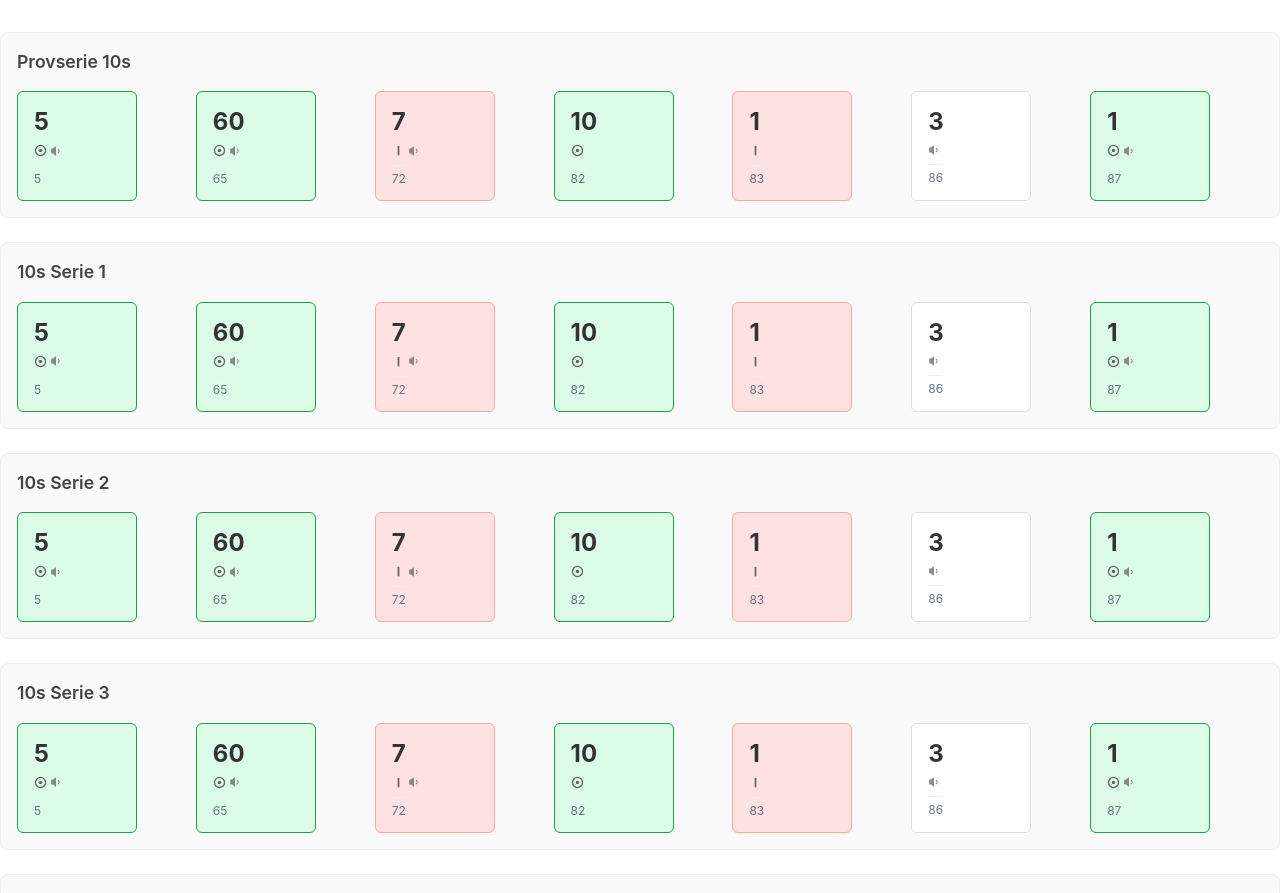
Test case: event detail (#125) › previews on hover and lets go again
Hover over the button "5 5" below "Provserie 10s" at (77, 146), box [17,91,137,201]
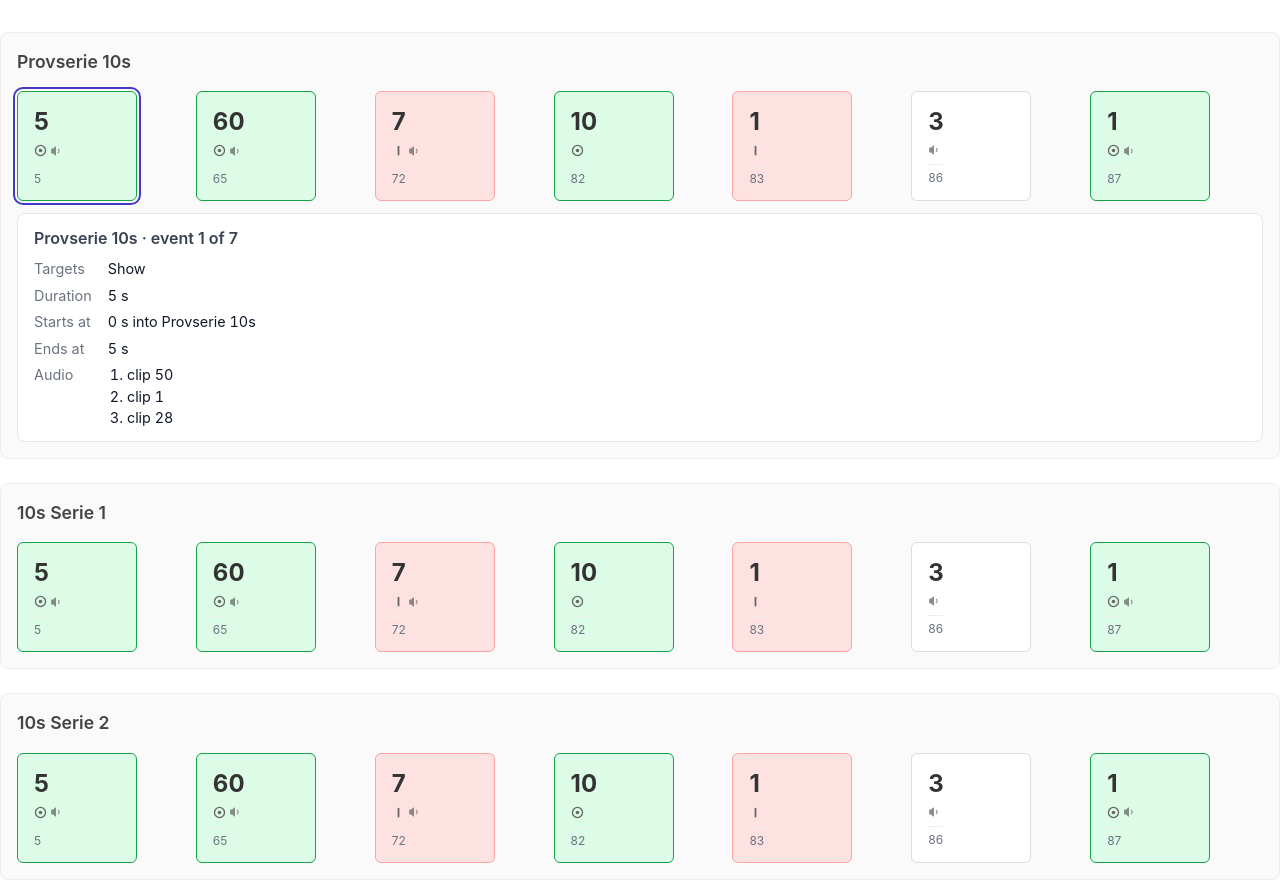
Expected: the element with test id "timeline-event-detail" is shown, [17,213,1263,442]
Move the pointer off the 1st button "5 5", box [17,91,137,201]
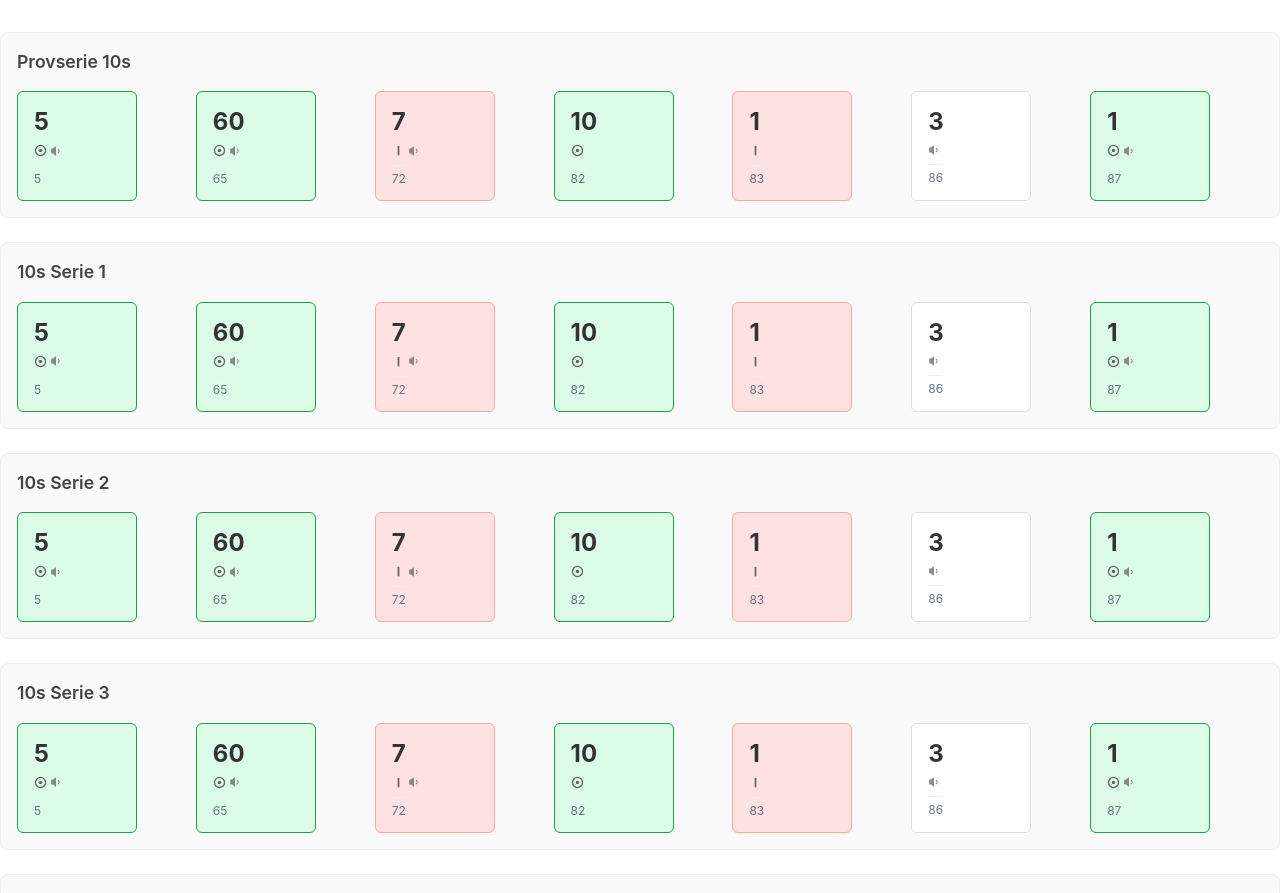
Expected: the element with test id "timeline-event-detail" is gone
